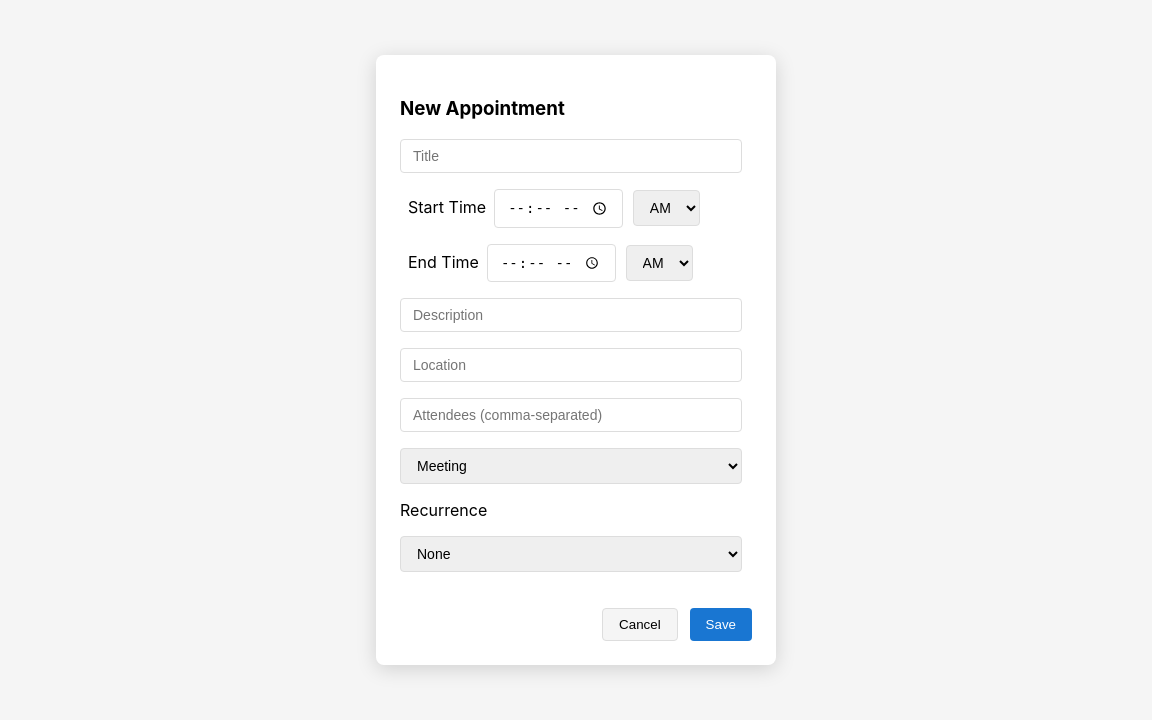
Modal Component › hides recurrence options when recurrence type is None
// First show options
Select "Daily" in the 4th dropdown showing "None" at (571, 554), box [400,536,742,572]
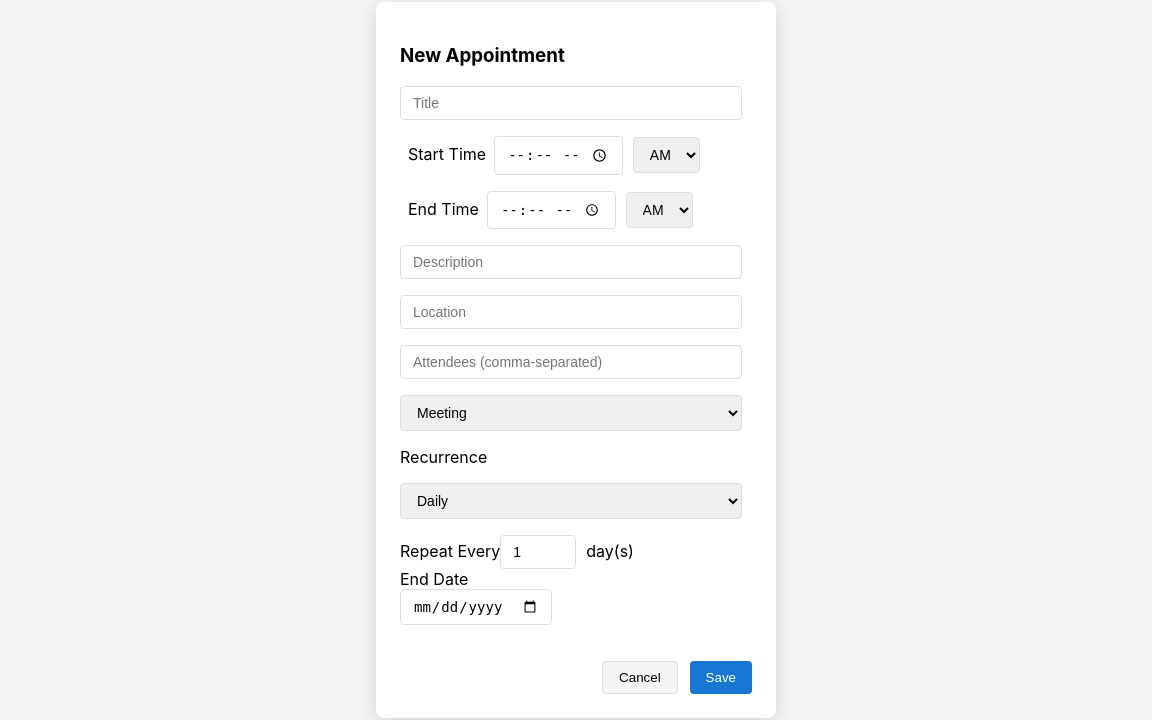
Expected: the text "Repeat Every" is shown, [400,541,500,561]
// Then hide them
Select "None" in the 4th dropdown showing "None" at (571, 501), box [400,483,742,519]
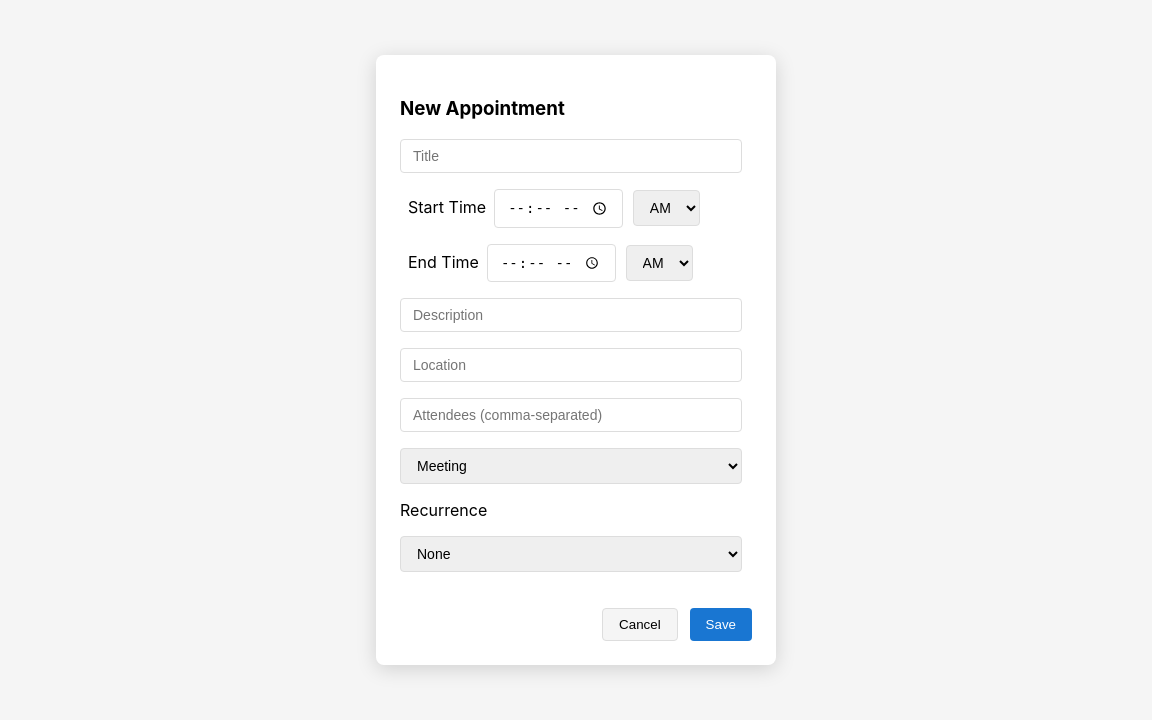
Expected: the text "Repeat Every" is gone
